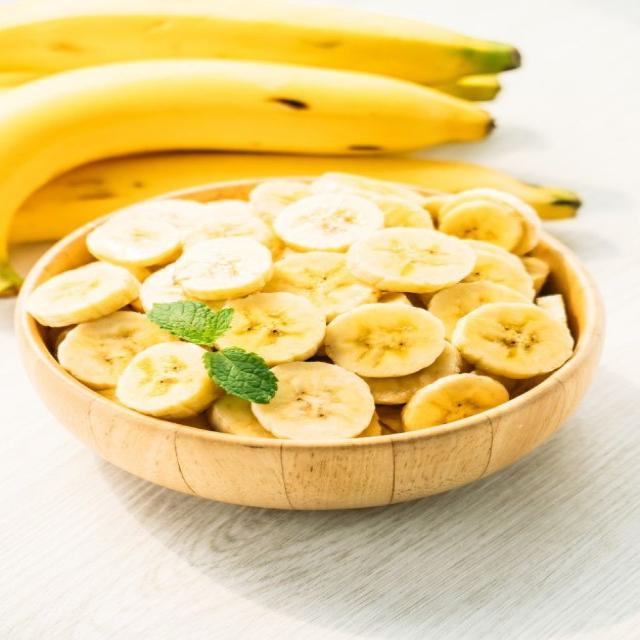banana slice: (252, 362, 374, 439), (58, 311, 178, 389), (453, 303, 573, 378), (326, 304, 444, 378), (348, 228, 475, 293), (216, 292, 326, 366), (116, 342, 221, 419), (263, 252, 378, 320), (27, 262, 140, 327), (440, 188, 540, 254), (274, 194, 384, 252), (402, 374, 509, 431), (174, 238, 272, 300), (364, 343, 462, 404), (428, 281, 529, 339), (182, 202, 282, 254), (86, 217, 181, 266), (439, 200, 523, 250), (311, 172, 425, 205), (464, 251, 534, 300), (111, 199, 203, 231), (207, 394, 273, 438), (140, 264, 197, 312), (249, 180, 312, 223), (375, 197, 433, 229), (471, 369, 521, 397), (465, 240, 520, 265), (522, 257, 550, 293), (535, 294, 567, 325), (203, 200, 254, 219), (423, 194, 452, 221), (50, 326, 75, 357), (377, 405, 402, 432), (173, 413, 211, 430), (358, 414, 382, 437), (378, 292, 413, 305), (124, 266, 152, 282), (99, 388, 121, 404), (123, 298, 145, 313)
unpeal banana: (0, 59, 491, 234), (9, 152, 579, 243), (0, 0, 519, 85)
